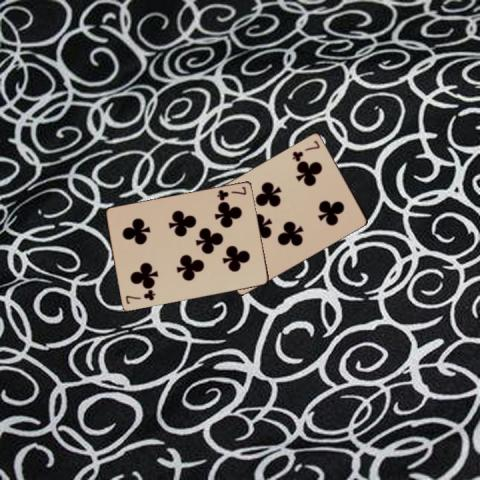7c: (290, 137, 322, 162), (214, 184, 247, 202), (123, 289, 156, 305)
